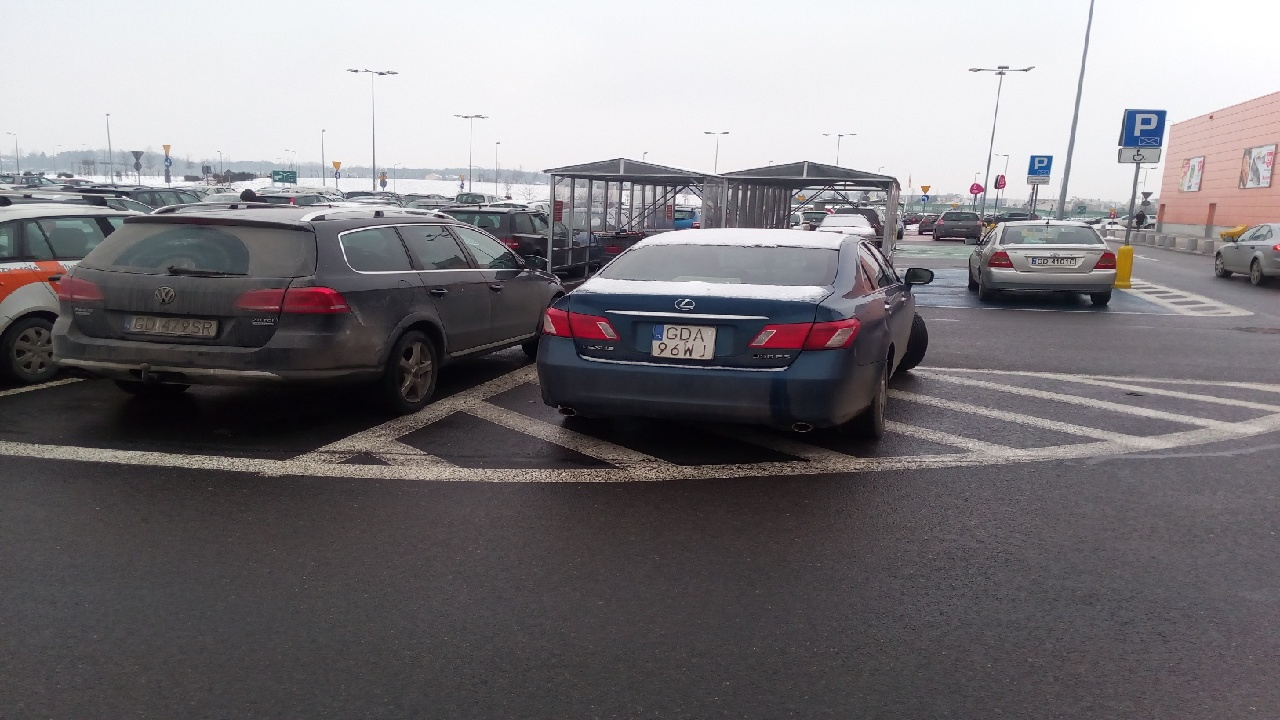D18: (1119, 109, 1165, 148), (1028, 154, 1053, 175)
